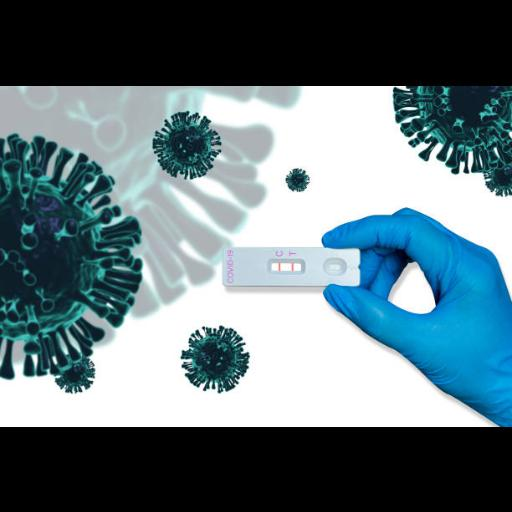Pos: (226, 246, 358, 284)
